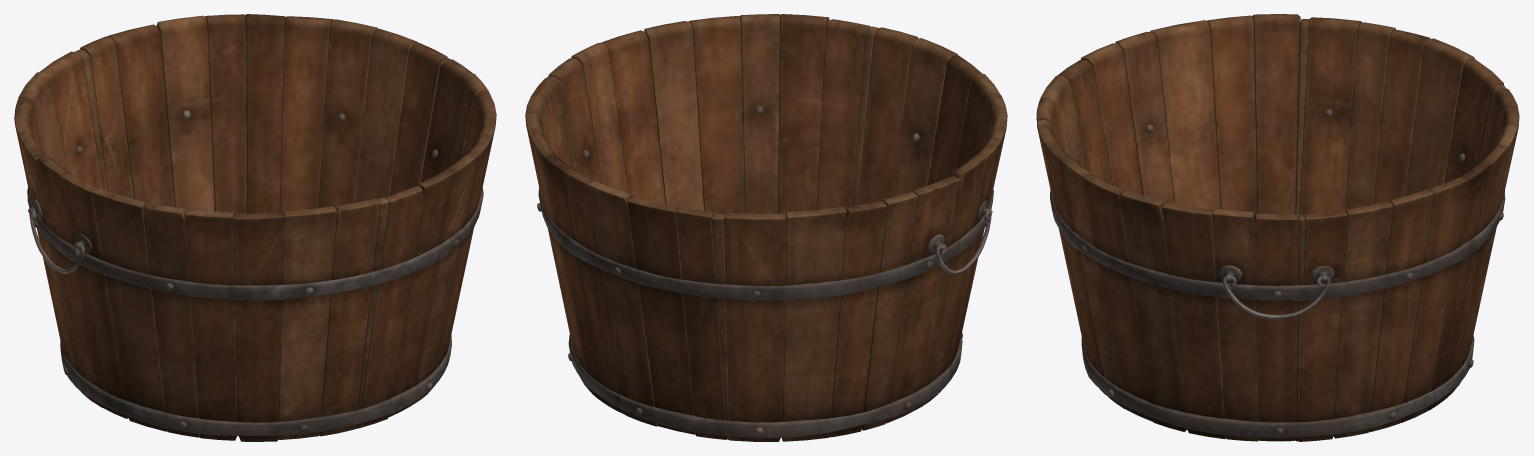
File: wooden_bucket_02.glb
The picture shows the model from 3 angles, left to right: view 1: azimuth 30°, elevation 25°; view 2: azimuth 150°, elevation 25°; view 3: azimuth 270°, elevation 25°; orthographic projection.
Visible parts, largest first — view 1: wooden_bucket_02, wooden_bucket_02_handle_01; view 2: wooden_bucket_02, wooden_bucket_02_handle_01; view 3: wooden_bucket_02, wooden_bucket_02_handle_02.
Part boxes in pixels (bbox=[...]): wooden_bucket_02: bbox=[14, 14, 496, 441]; wooden_bucket_02_handle_01: bbox=[29, 210, 84, 273]; wooden_bucket_02: bbox=[525, 14, 1007, 441]; wooden_bucket_02_handle_01: bbox=[935, 211, 991, 274]; wooden_bucket_02: bbox=[1036, 14, 1519, 441]; wooden_bucket_02_handle_02: bbox=[1222, 275, 1330, 319].
Bounding box in the file's own units: 0.6153 × 0.3504 × 0.6163.
Materials: 1 (1 with a texture image).
